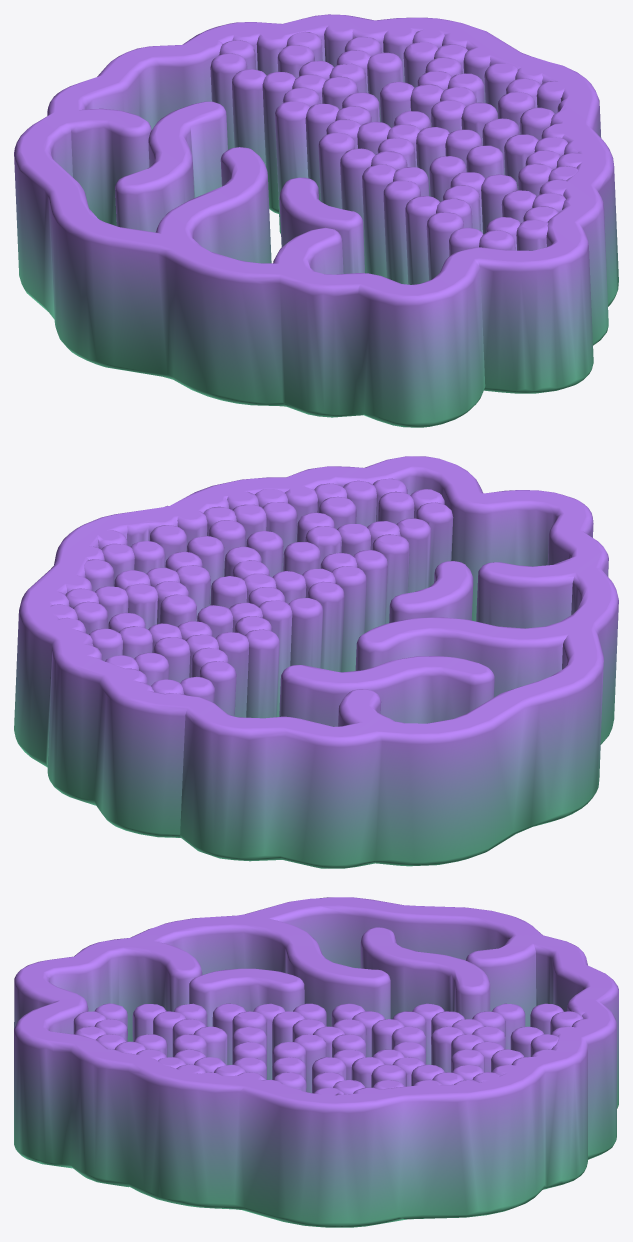
The model's file is brain3d-nd.glb.
3 renders of one model, top to bottom at view 1: azimuth 30°, elevation 25°; view 2: azimuth 150°, elevation 25°; view 3: azimuth 270°, elevation 25°, orthographic. The views are drawn at different scales.
Size of what is drawn, in the model's own units: 0.4702 by 0.1335 by 0.5116.
1 material, 1 textured.
